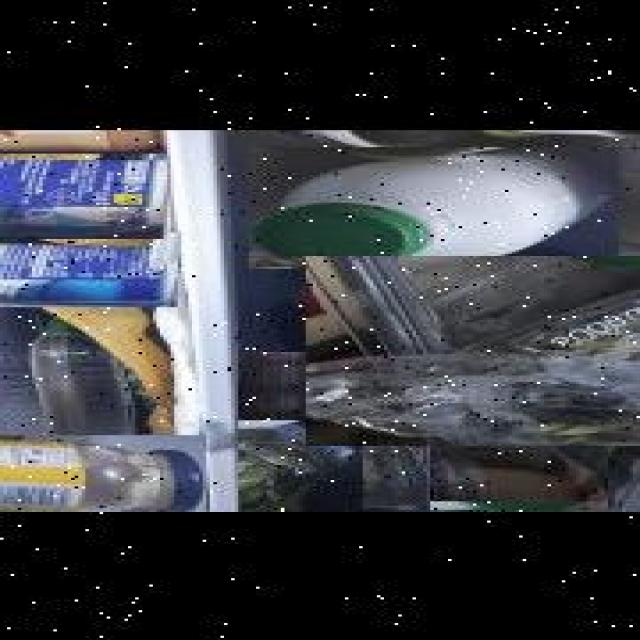asparagus: (306, 254, 640, 444)
humus: (238, 350, 430, 512), (432, 431, 610, 512)
mayonaise: (0, 433, 206, 512)
milk: (249, 145, 619, 267)
yogurt: (0, 151, 167, 237), (0, 230, 181, 304), (0, 232, 96, 301)
